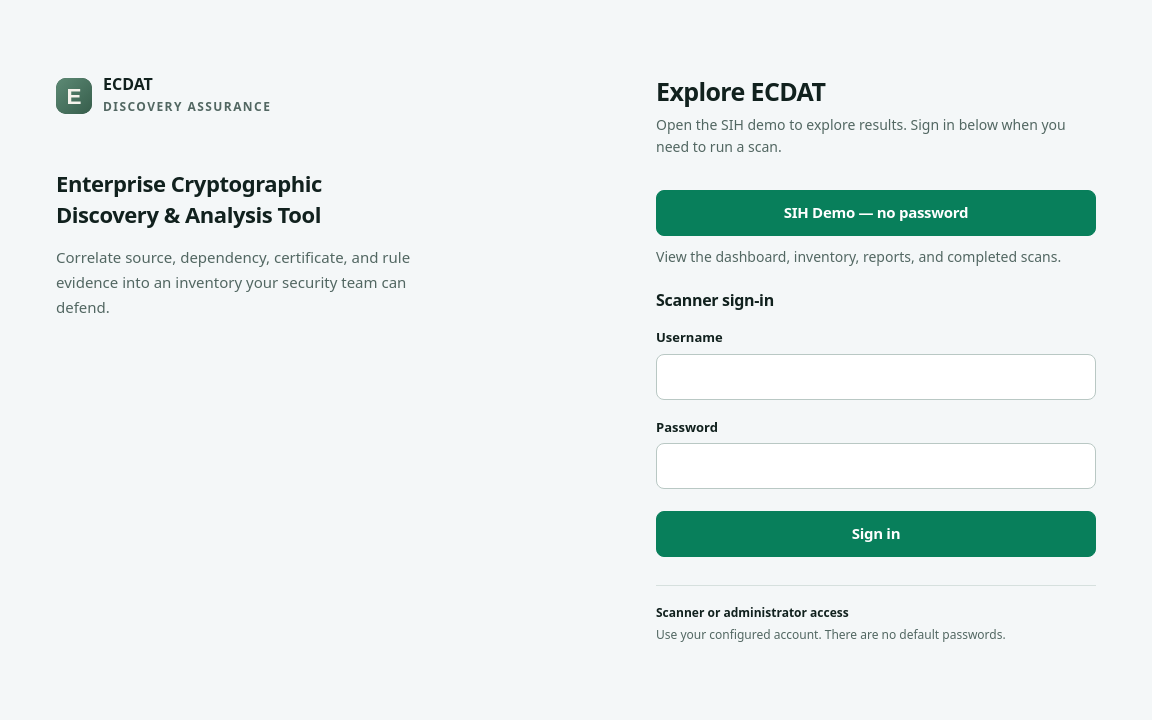
Test: Login accessibility › announces authentication errors via alert role
Type "admin" into the field labelled "Username" at (876, 377), box [656, 354, 1096, 400]
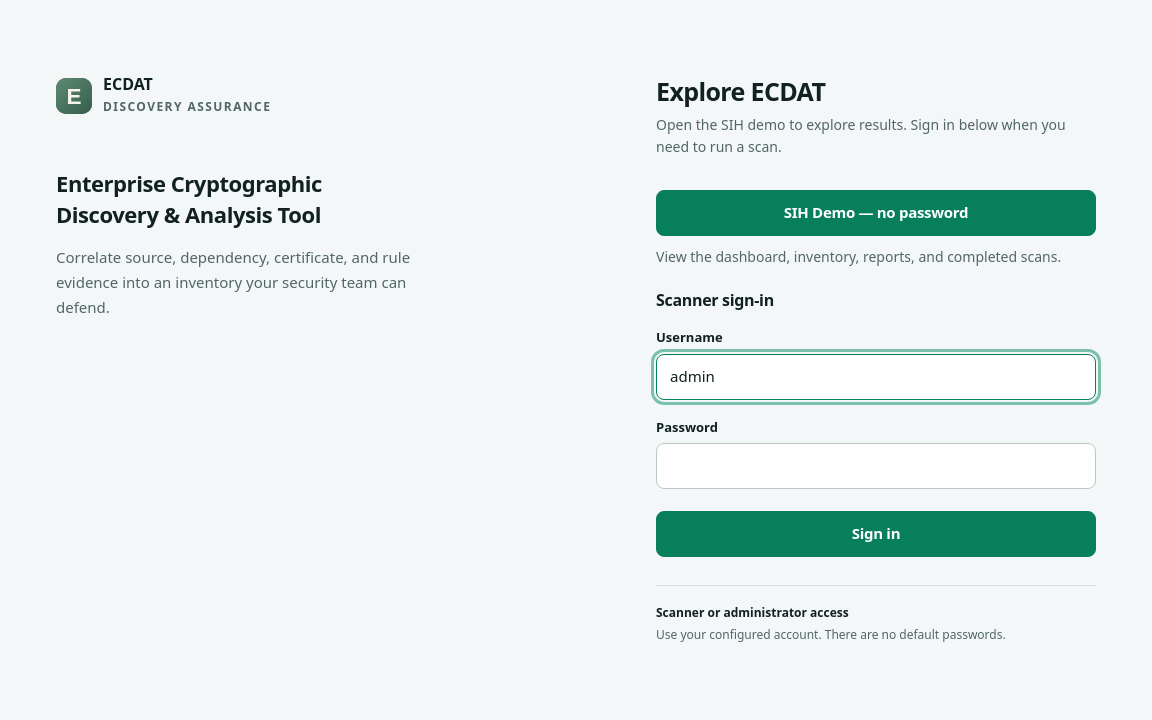
Type "wrong" into the password field labelled "Password" at (876, 466), box [656, 443, 1096, 489]
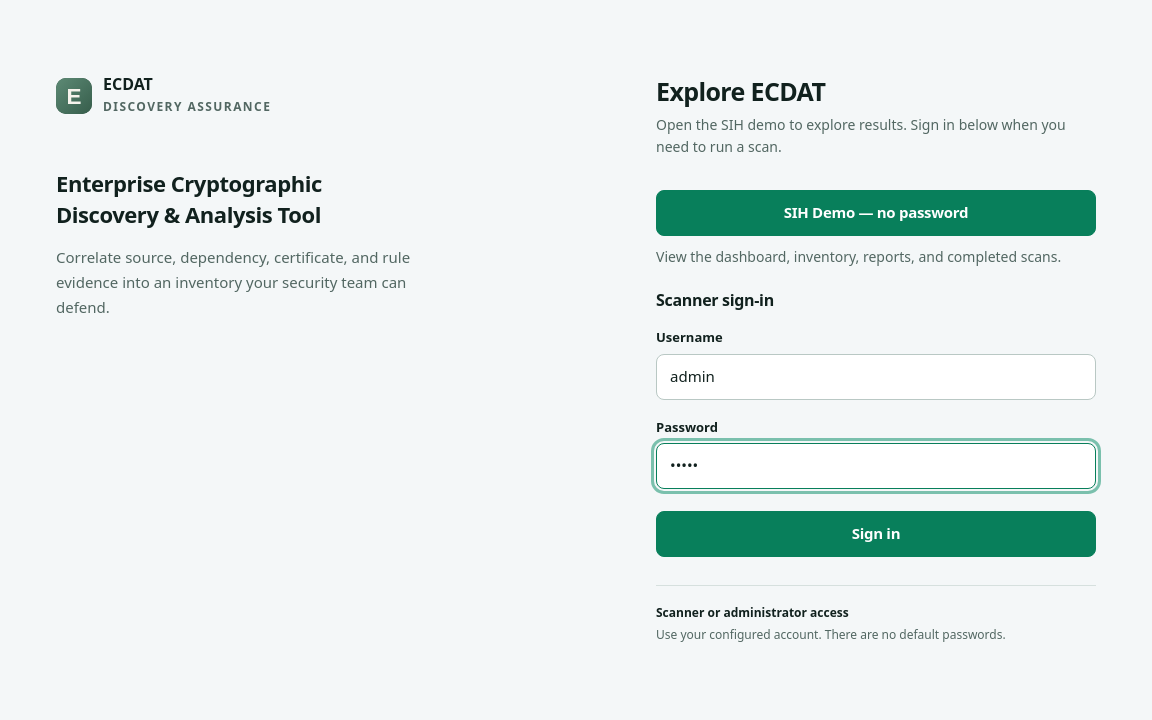
Click the button "Sign in" at (876, 534), box [656, 511, 1096, 557]
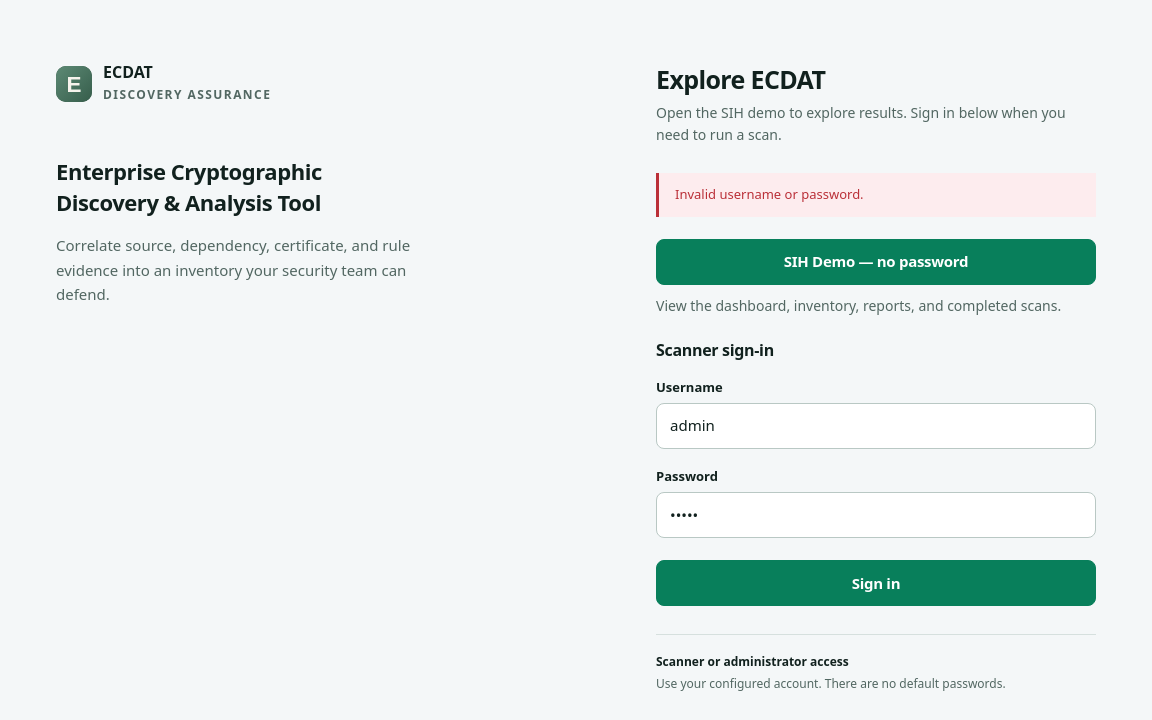
Check: the message reads "Invalid username or password.", box [675, 185, 864, 203]
